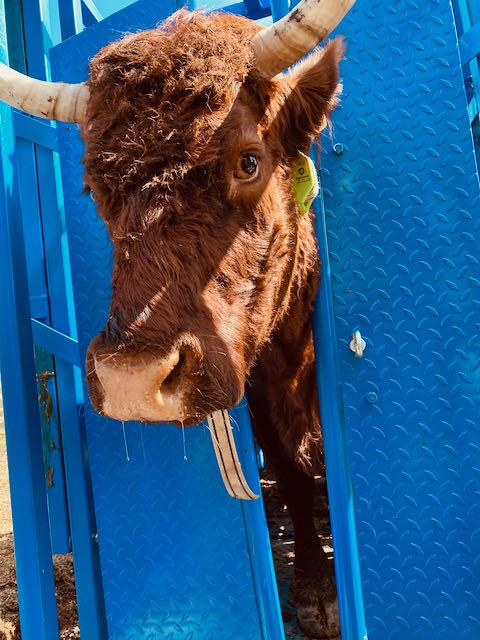muzzles: (70, 350, 230, 434)
